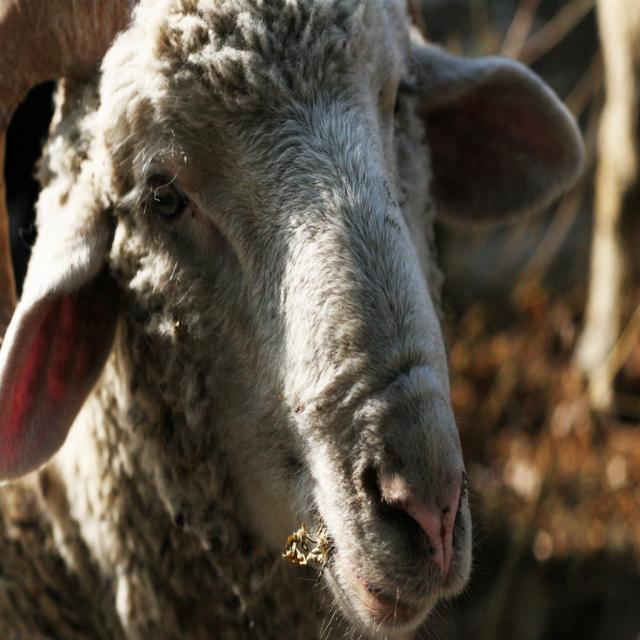Sheep: (0, 0, 586, 639)
